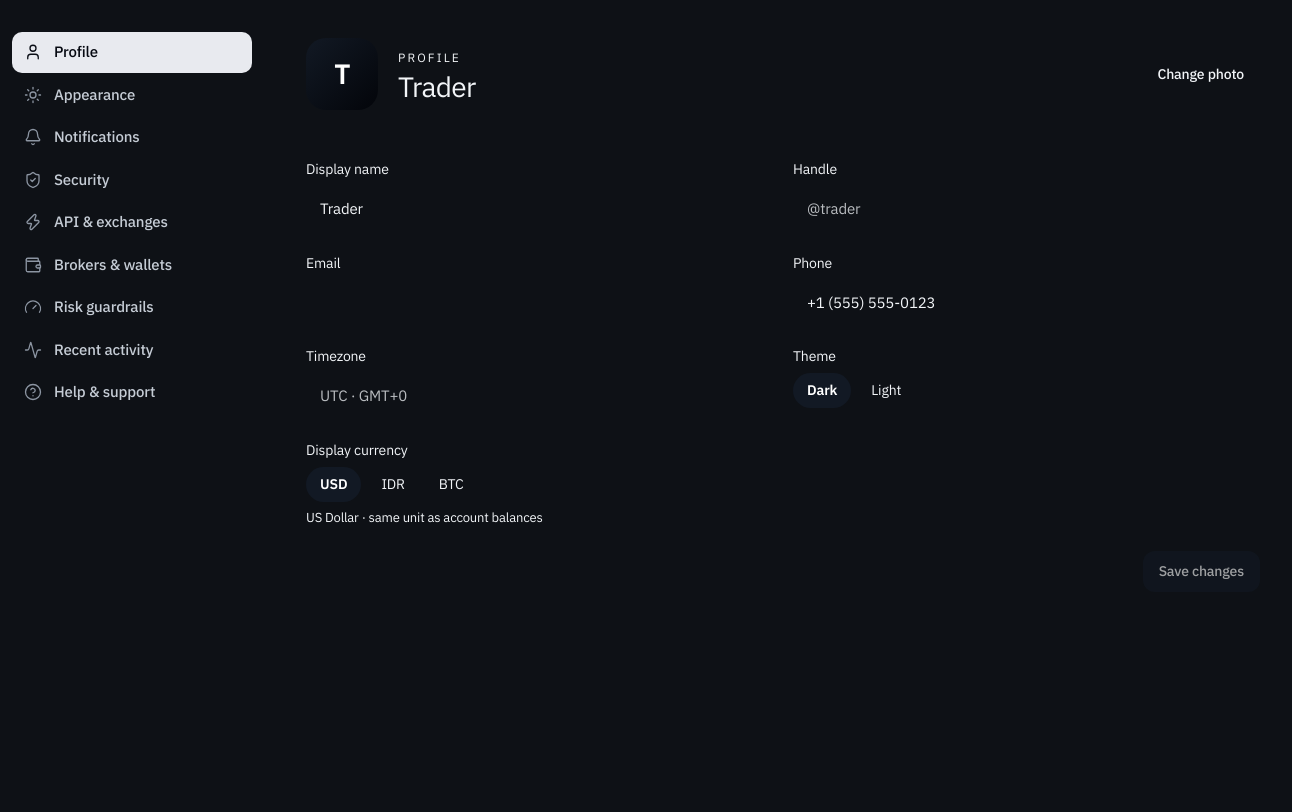
SettingsPage — account-type-specific risk section › hides trading controls and shows the hedging note for a HEDGING account
The image size is (1292, 812).
Click the button "Risk guardrails". click: click(132, 307)
box: left=12, top=287, right=252, bottom=328
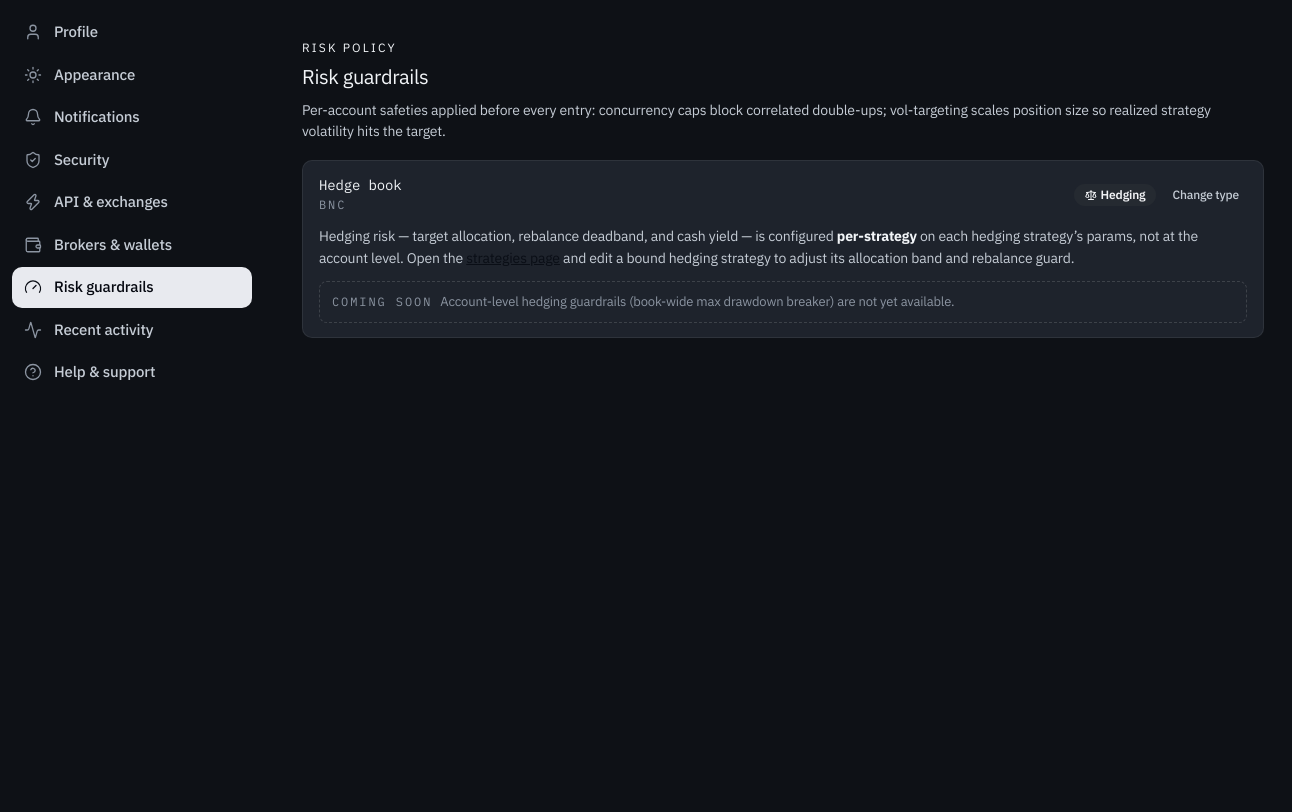
Result: the text "per-strategy" is shown at left=837, top=227, right=917, bottom=245
